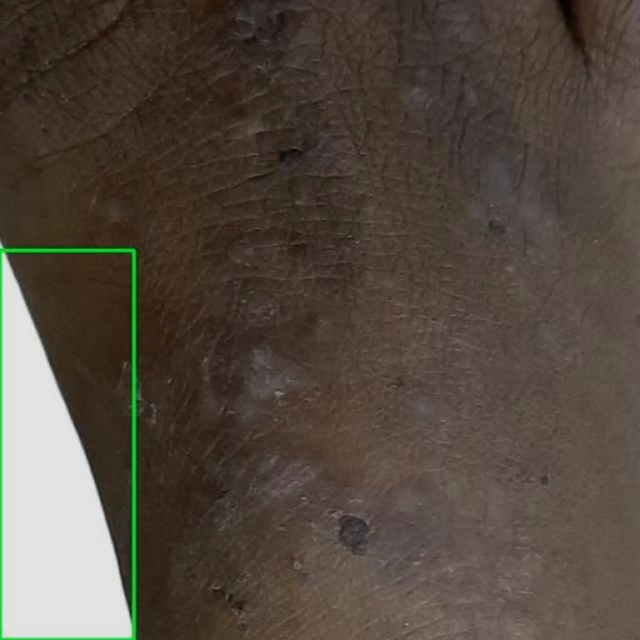Contact Dermatitis: (0, 250, 134, 639)
